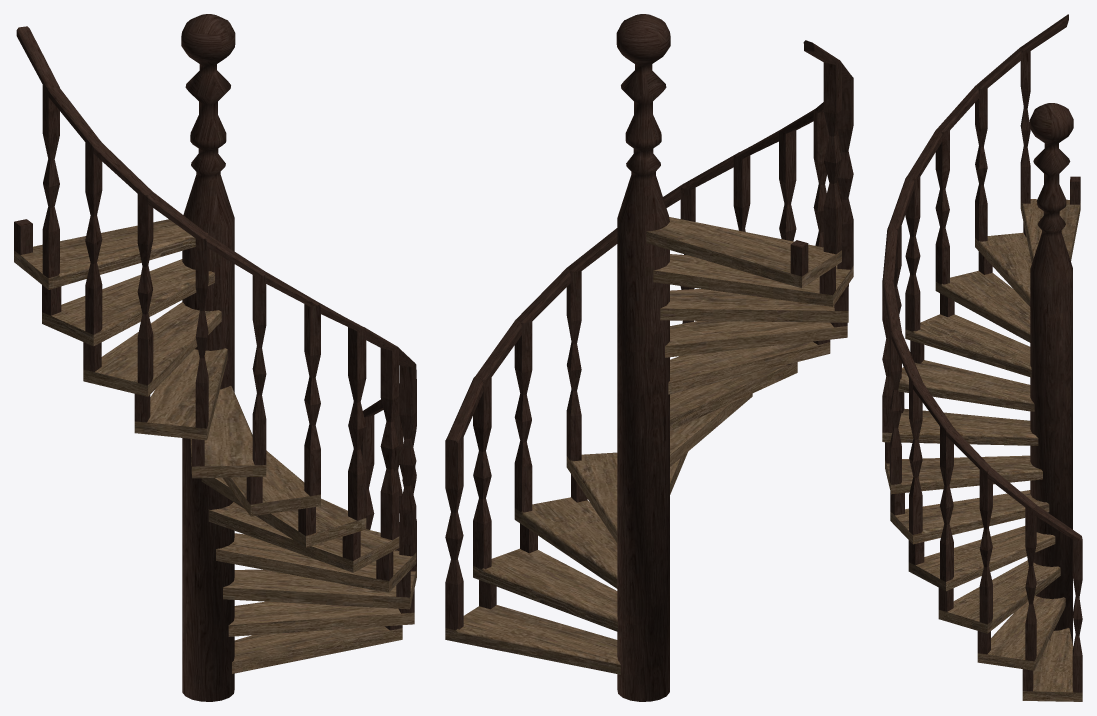
The model's file is stairs.glb.
3 views of the same model, side by side, from view 1: azimuth 30°, elevation 25°; view 2: azimuth 150°, elevation 25°; view 3: azimuth 270°, elevation 25° (orthographic). The views are drawn at different scales.
Parts seen in each view (by area): view 1: Object_3, Object_2, Object_4, Object_5; view 2: Object_3, Object_4, Object_2, Object_5; view 3: Object_3, Object_2, Object_4, Object_5.
Part boxes in pixels (x1=…): Object_3: x1=14, y1=219, x2=416, y2=673; Object_2: x1=14, y1=85, x2=416, y2=630; Object_4: x1=181, y1=14, x2=235, y2=701; Object_5: x1=16, y1=26, x2=416, y2=417; Object_3: x1=445, y1=217, x2=853, y2=674; Object_4: x1=616, y1=14, x2=670, y2=701; Object_2: x1=445, y1=40, x2=853, y2=629; Object_5: x1=447, y1=43, x2=852, y2=440; Object_3: x1=882, y1=199, x2=1082, y2=701; Object_2: x1=882, y1=14, x2=1082, y2=692; Object_4: x1=1029, y1=103, x2=1073, y2=643; Object_5: x1=882, y1=14, x2=1082, y2=539.
Size of the model in its own units: 201 by 370 by 119.
4 materials, 4 textured.
